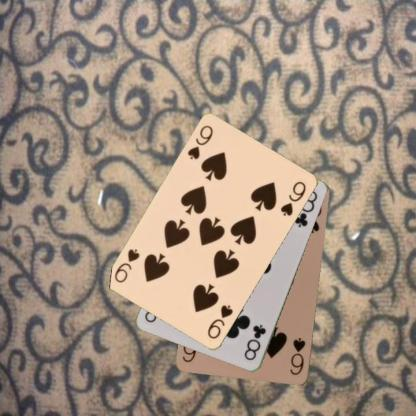6s: (288, 335, 307, 377)
8c: (242, 322, 268, 362)
9s: (204, 302, 234, 341), (185, 123, 214, 161)
